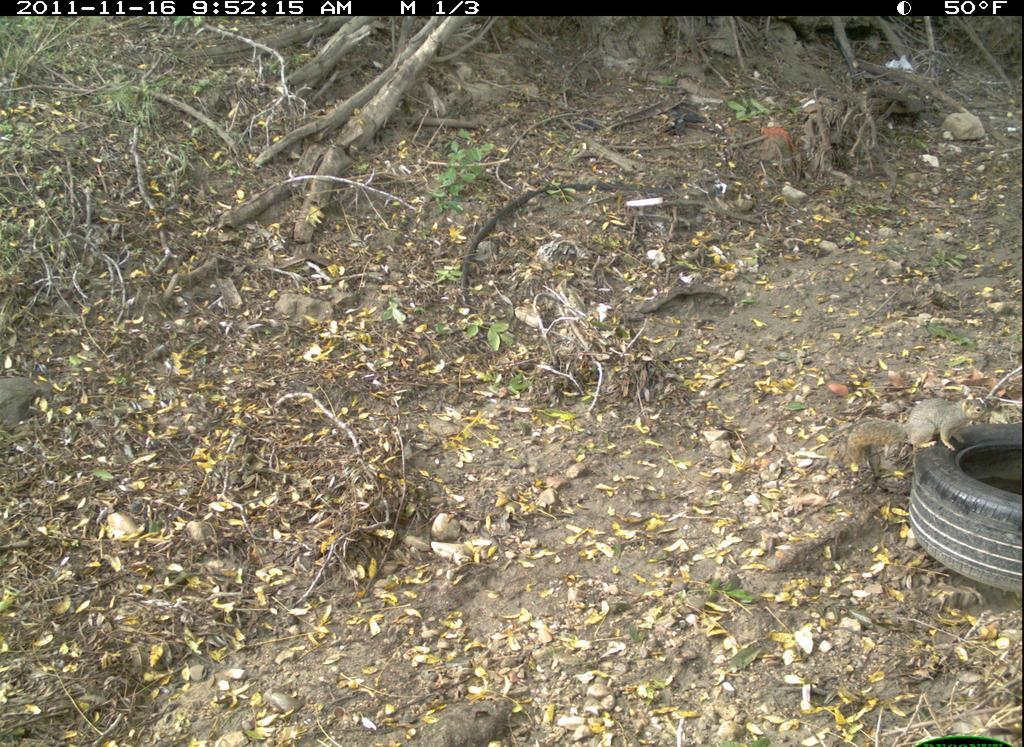squirrel: (839, 372, 1001, 493)
